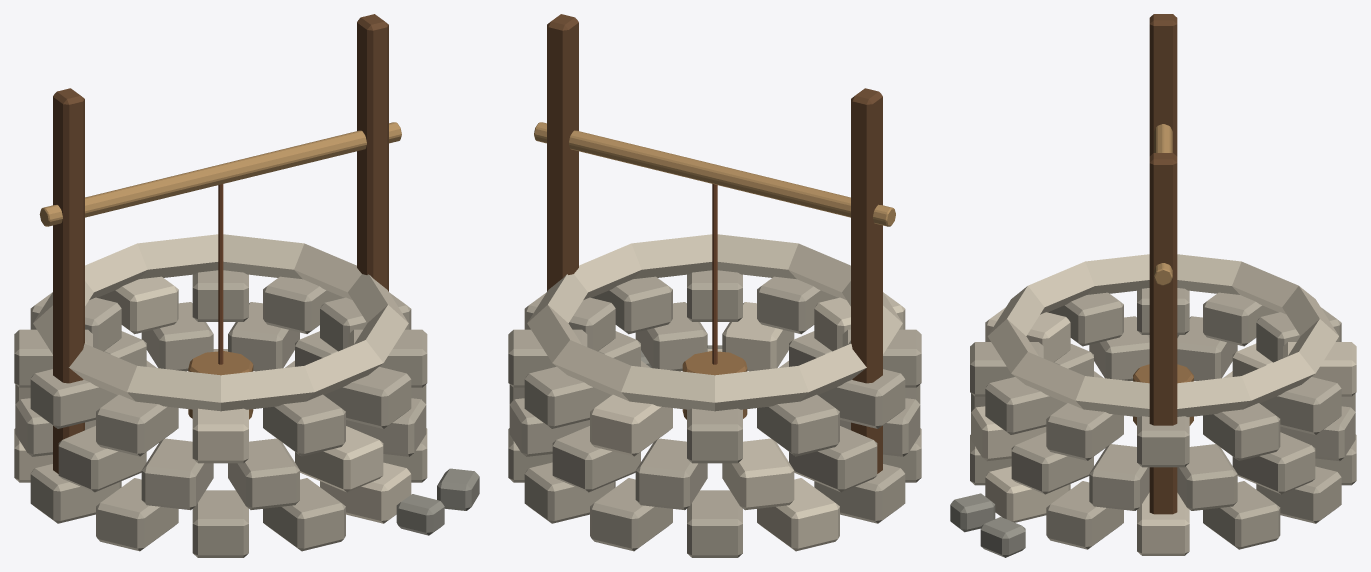
The model's file is runtime.glb.
3 renders of one model, left to right at view 1: azimuth 30°, elevation 25°; view 2: azimuth 150°, elevation 25°; view 3: azimuth 270°, elevation 25°, orthographic. The views are drawn at different scales.
Visible parts, largest first — view 1: falkenwacht-stone-well-v08_nocol; view 2: falkenwacht-stone-well-v08_nocol; view 3: falkenwacht-stone-well-v08_nocol.
Boxes of the visible parts, bbox=[...] form: falkenwacht-stone-well-v08_nocol: bbox=[14, 14, 479, 557]; falkenwacht-stone-well-v08_nocol: bbox=[508, 14, 921, 557]; falkenwacht-stone-well-v08_nocol: bbox=[950, 14, 1356, 557].
Bounding box in the file's own units: 2.79 × 3.14 × 2.94.
